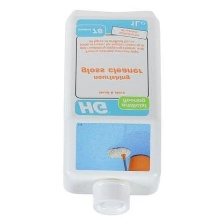cleaning_solution: (59, 5, 163, 217)
